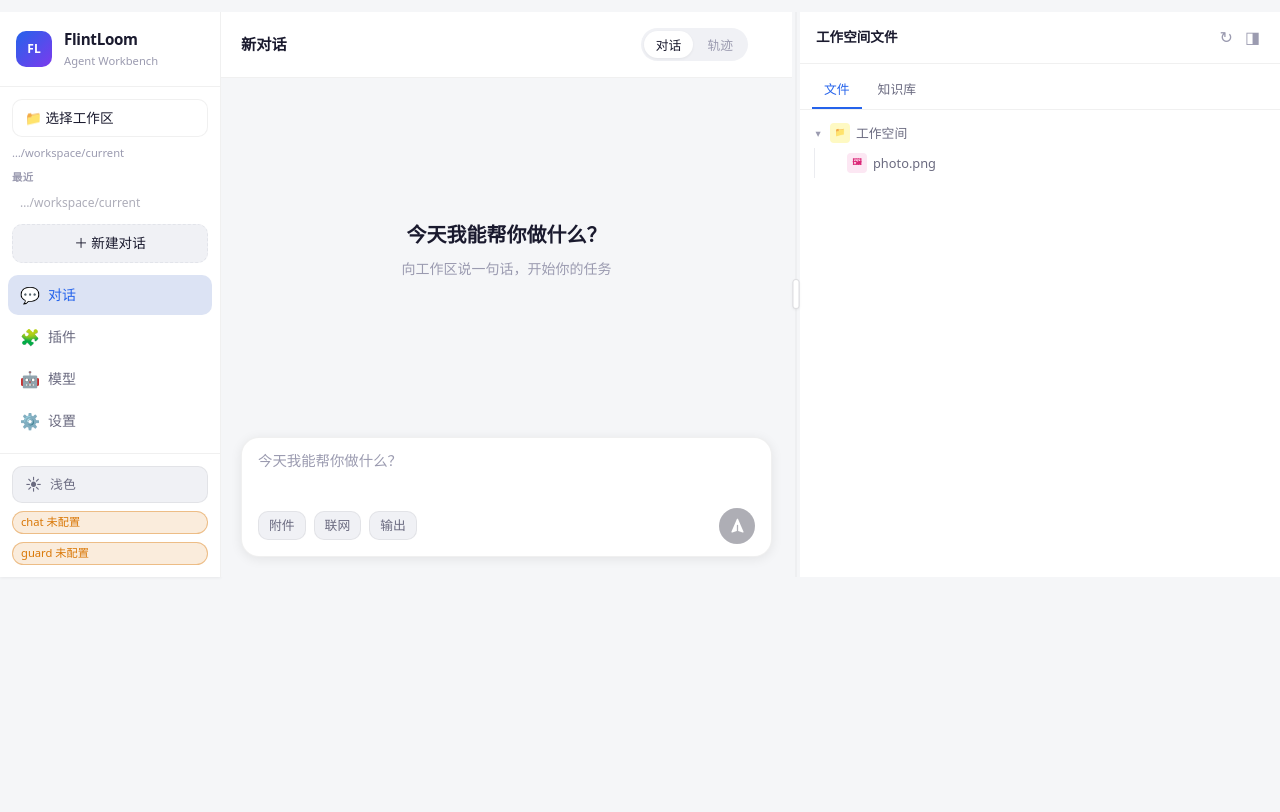
Test: App › renders image files with an inline image preview
What coordinates should you click on to do the following:
click the list item with class "file-label"
I would click on:
 (904, 163)
Its box is top-left (821, 148), bottom-right (1276, 178).
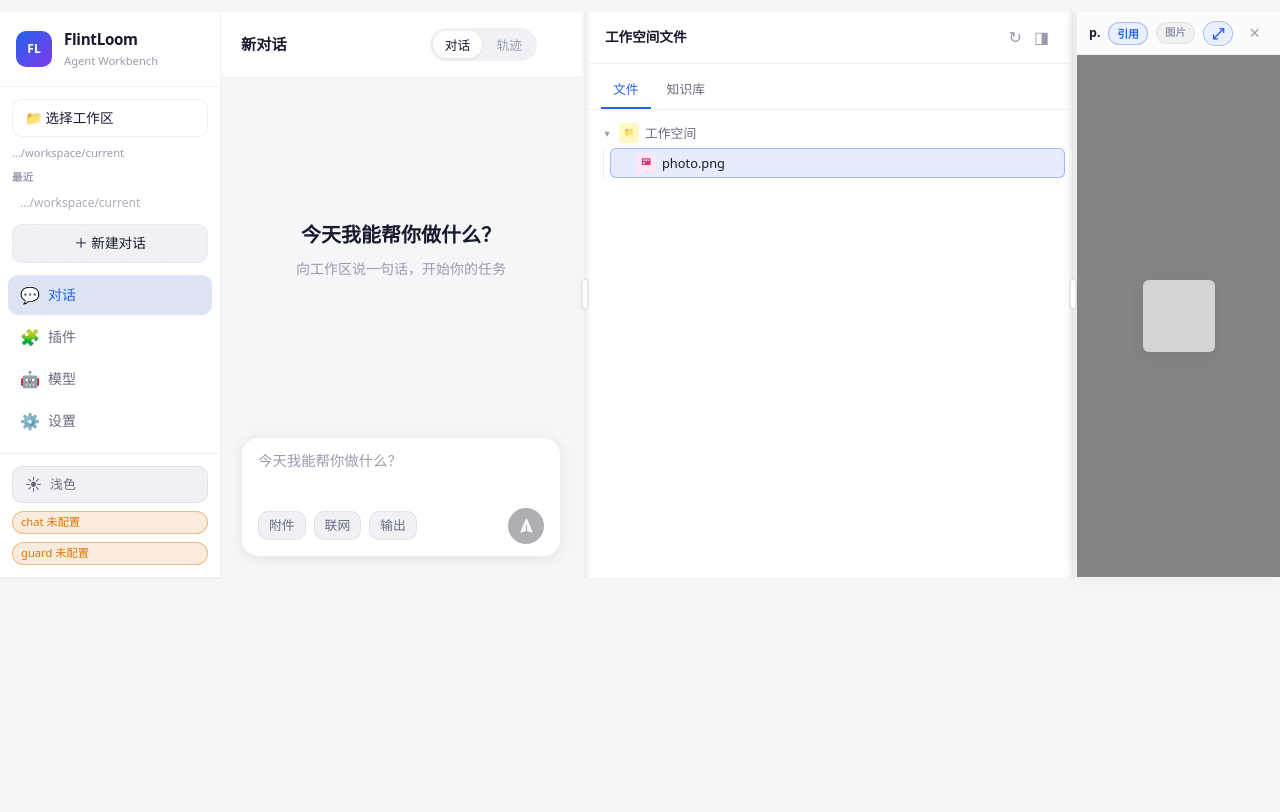
Expected: the text "图片" is shown, top-left (1156, 22), bottom-right (1195, 44)
